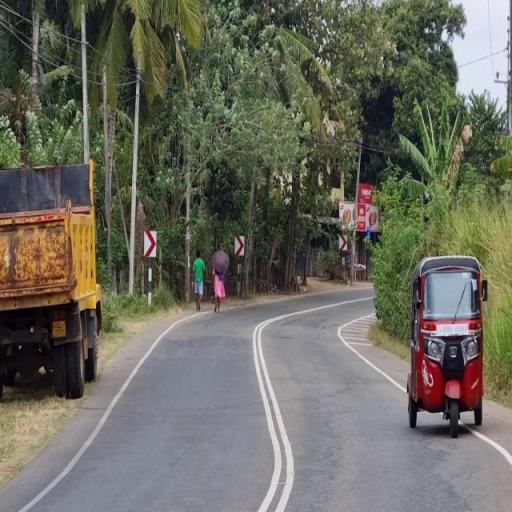double_white_line: (250, 312, 294, 511), (461, 418, 512, 464), (0, 0, 34, 51)
